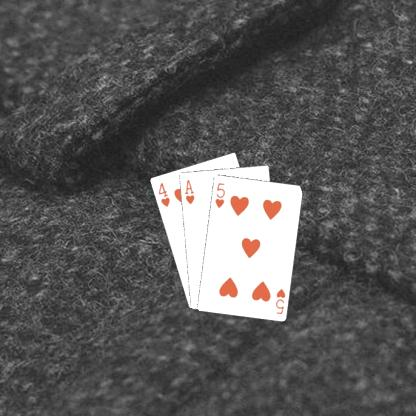4H: (155, 179, 171, 208)
5H: (212, 180, 226, 209), (273, 286, 286, 315)
AH: (182, 177, 195, 206)
